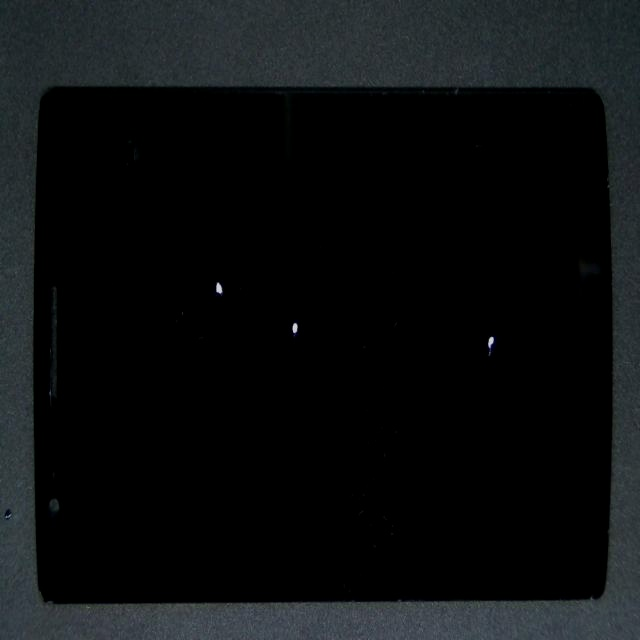stain: (272, 149, 640, 475), (174, 171, 461, 465), (71, 101, 302, 452)
